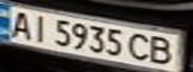3: (84, 24, 109, 55)
5: (103, 26, 127, 59), (48, 17, 72, 48)
9: (66, 20, 90, 52)
A: (3, 9, 36, 39)
B: (148, 34, 181, 66)
C: (127, 30, 154, 63)
I: (27, 12, 54, 43)
